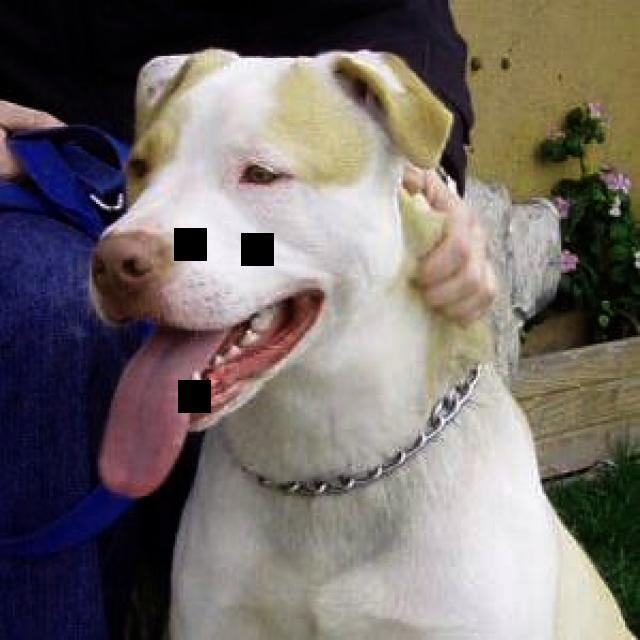adult_dog: (89, 47, 635, 640)
